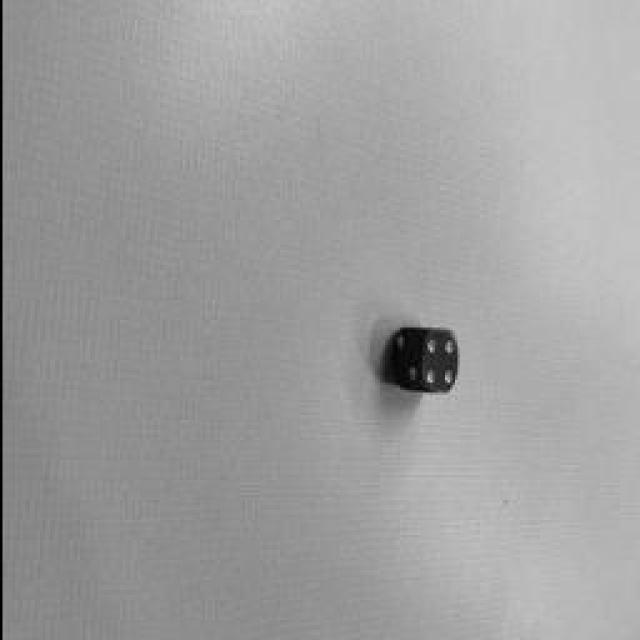dice_4: (419, 328, 456, 392)
